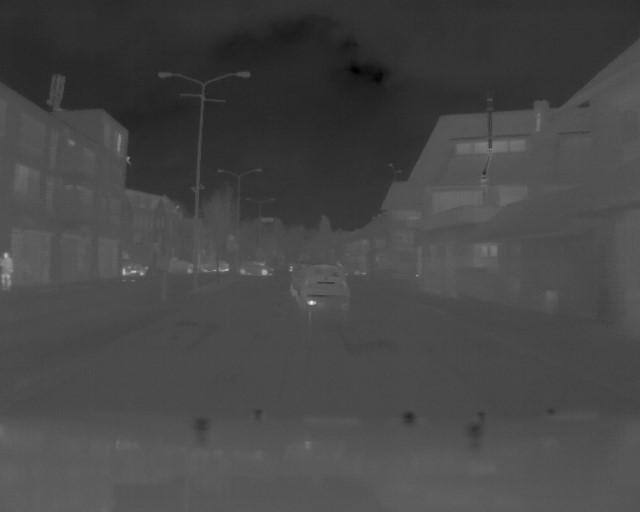car: (295, 263, 356, 317), (236, 260, 276, 278), (120, 264, 150, 285)
person: (1, 246, 15, 292)
